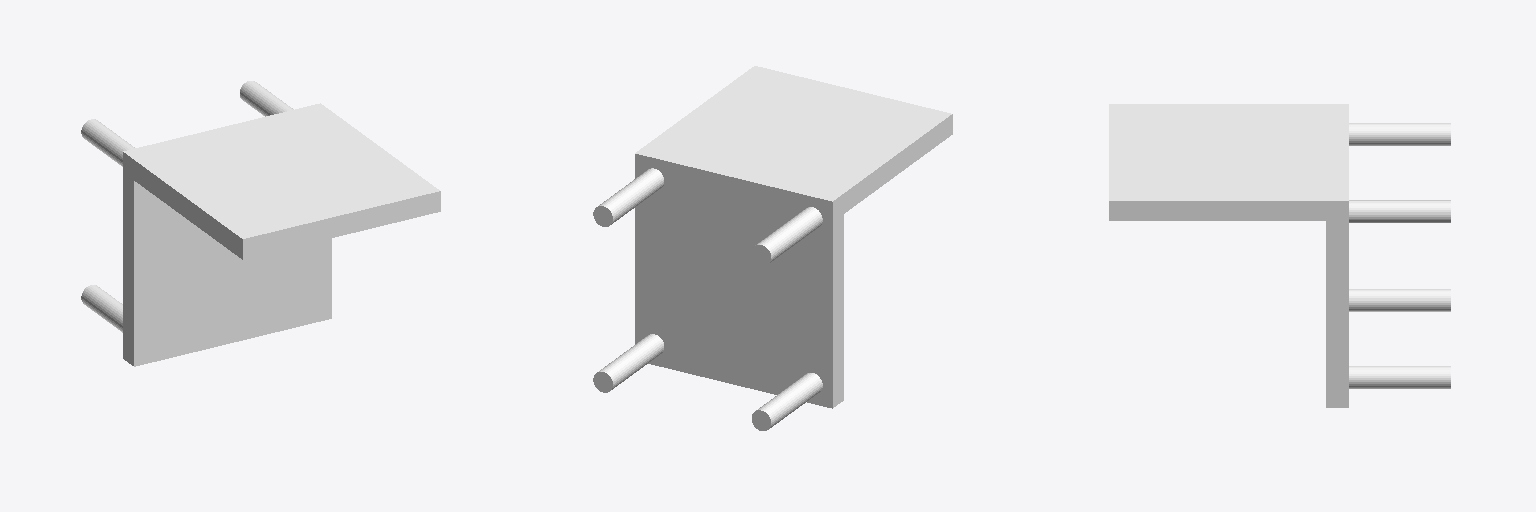
Rendered from asset_a9fd8880-8df8-4d16-a380-25d7a2e19e4f.obj.
The picture shows the model from 3 angles: view 1: azimuth 30°, elevation 25°; view 2: azimuth 150°, elevation 25°; view 3: azimuth 270°, elevation 25°; orthographic projection.
Size of the model in its own units: 1 by 1 by 1.5.